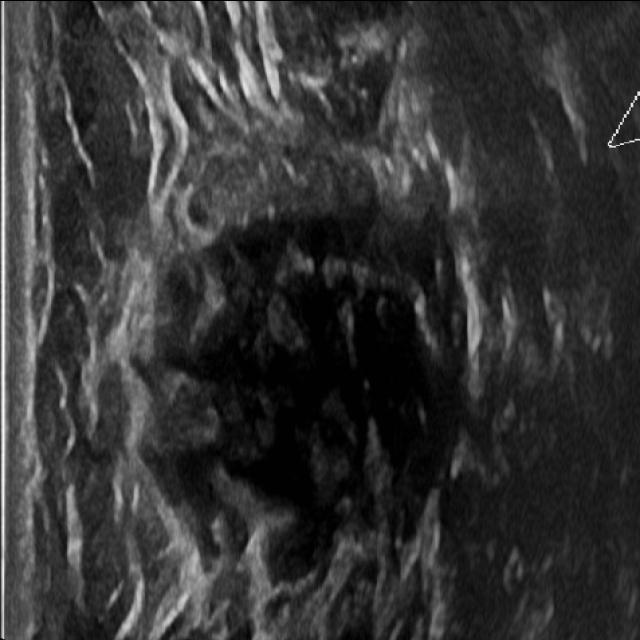Benign: (146, 226, 446, 494)
